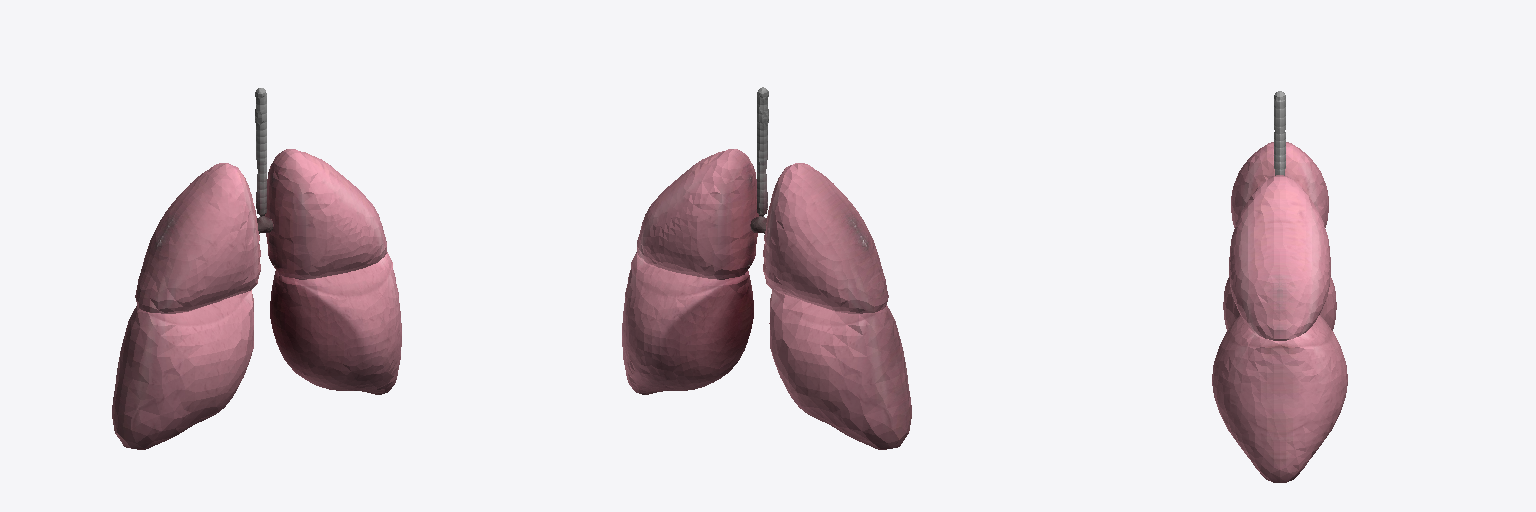
3 renders of one model, left to right at view 1: azimuth 30°, elevation 25°; view 2: azimuth 150°, elevation 25°; view 3: azimuth 270°, elevation 25°, orthographic.
Bounding box in the file's own units: 1.68 × 1.93 × 0.7129.
Materials: 1 (1 with a texture image).